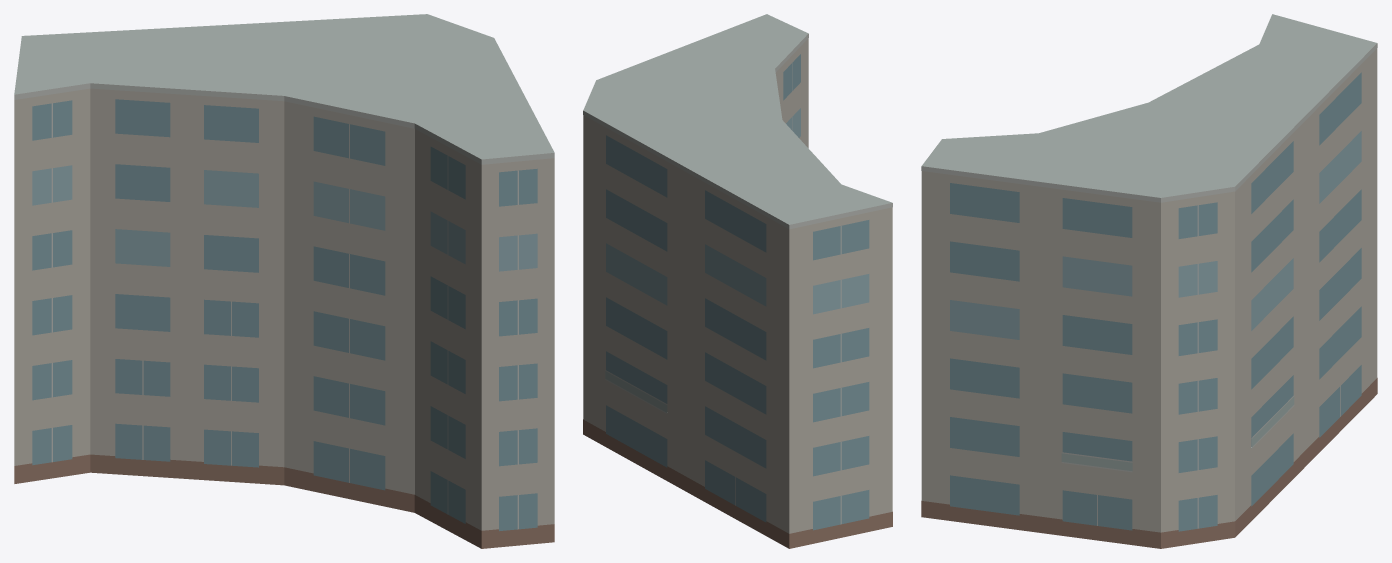
Rendered from survey-upis-32869473.glb.
3 views of the same model, side by side, from view 1: azimuth 30°, elevation 25°; view 2: azimuth 150°, elevation 25°; view 3: azimuth 270°, elevation 25° (orthographic). The views are drawn at different scales.
Parts seen in each view (by area): view 1: survey-upis-32869473.tmp; view 2: survey-upis-32869473.tmp; view 3: survey-upis-32869473.tmp.
Part boxes in pixels (<box>): survey-upis-32869473.tmp: <box>14,14,554,548</box>; survey-upis-32869473.tmp: <box>583,14,892,548</box>; survey-upis-32869473.tmp: <box>921,14,1377,548</box>.
Bounding box in the file's own units: 20.02 × 17.8 × 20.97.
